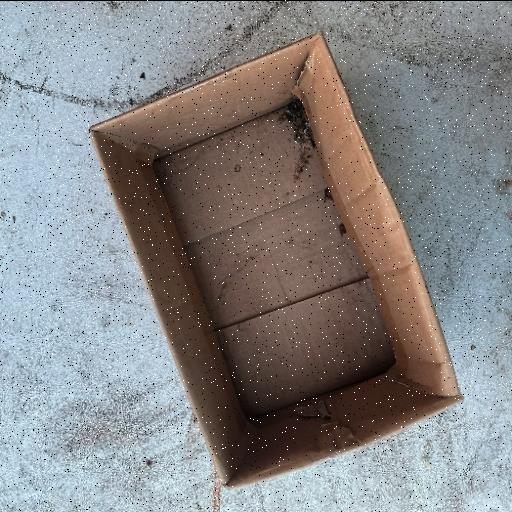Cardboard: (87, 30, 464, 490)
